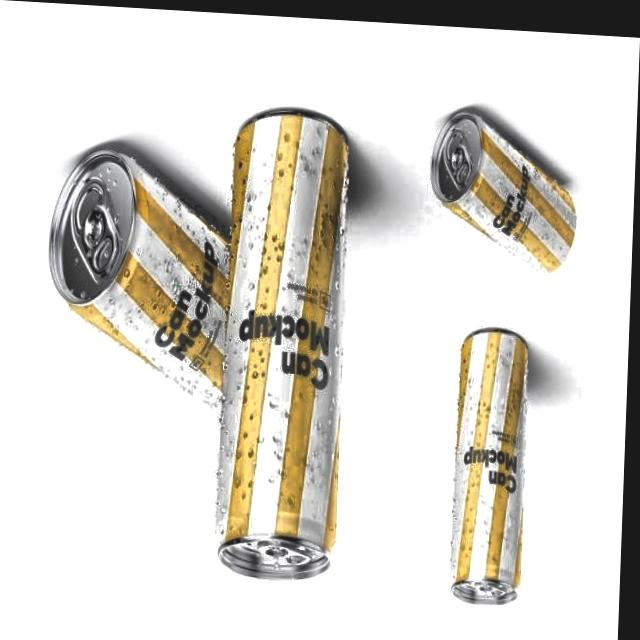can: (209, 97, 370, 591), (38, 136, 245, 415), (413, 98, 597, 278), (445, 316, 540, 620)
